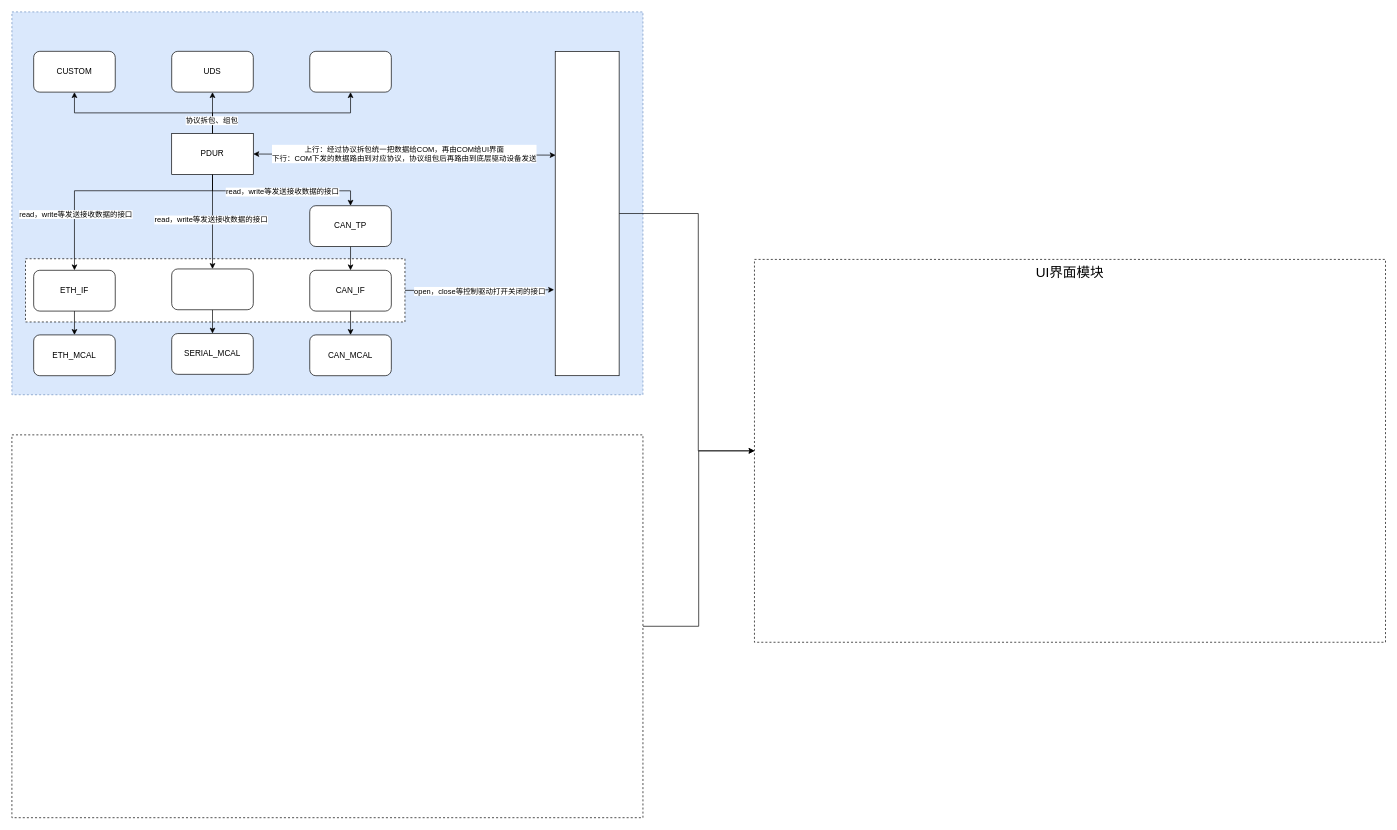
This 1397x830 diagram has some shape labels left out. Here are the shapes that lost their labels. From the top down, the box of each, then its label:
(309, 51, 391, 92): XCP
(11, 11, 643, 395): 通信模块
(555, 51, 619, 376): COM
(171, 268, 253, 310): SERIAL_IF
(11, 434, 643, 818): ELF/AXF解析模块
